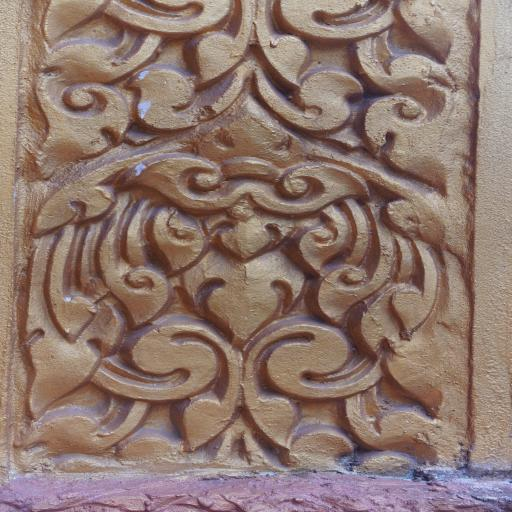la: (18, 102, 478, 475), (13, 0, 486, 100)
